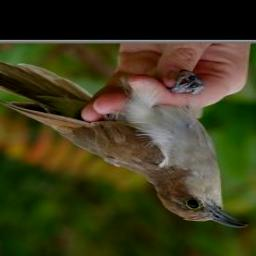Cuckoo: (0, 56, 248, 230)
